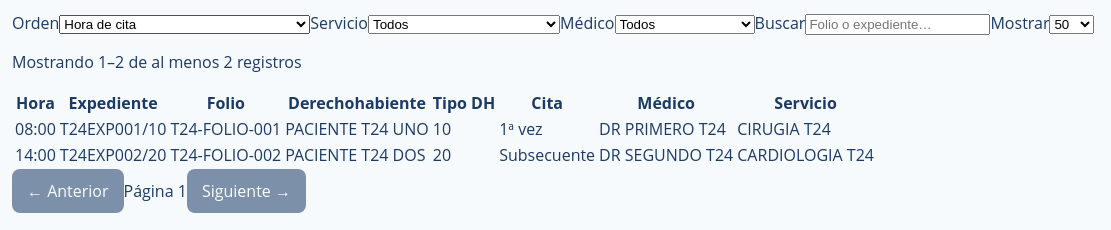
PreparationTable — T-24 (REQ-PR-001) › filter by service — only matching rows visible
Step 1. Select "CIRUGIA T24 (CIR)" in the dropdown labelled "Servicio" → [464, 24], box [368, 15, 560, 34]
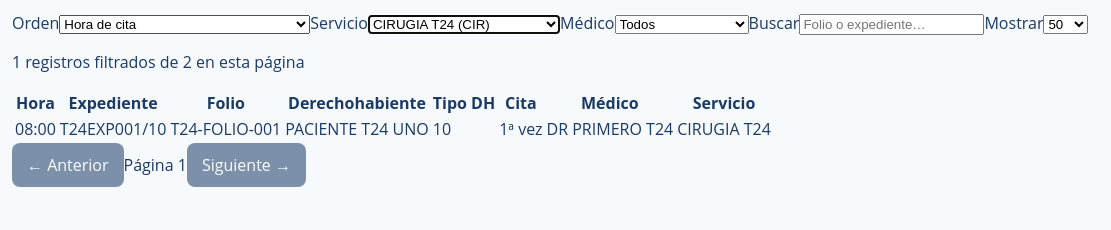
expect the text "T24-FOLIO-001" is shown: met, box [169, 117, 282, 141]
expect the text "T24-FOLIO-002" is gone: met
